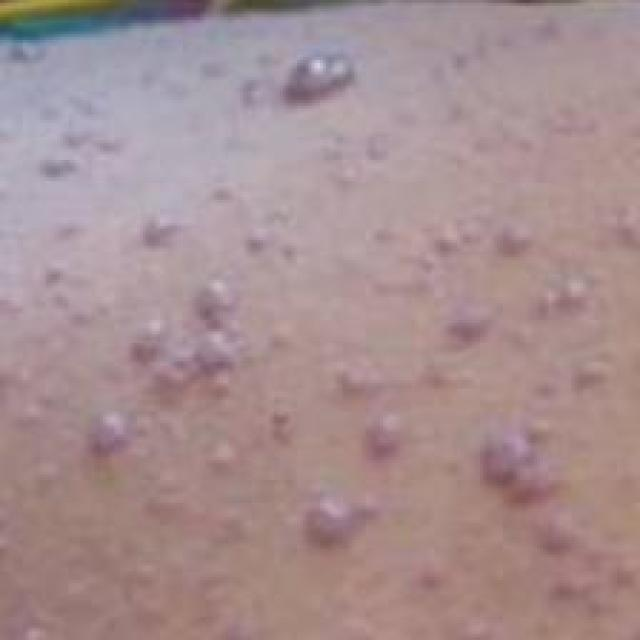others: (0, 20, 623, 640)
